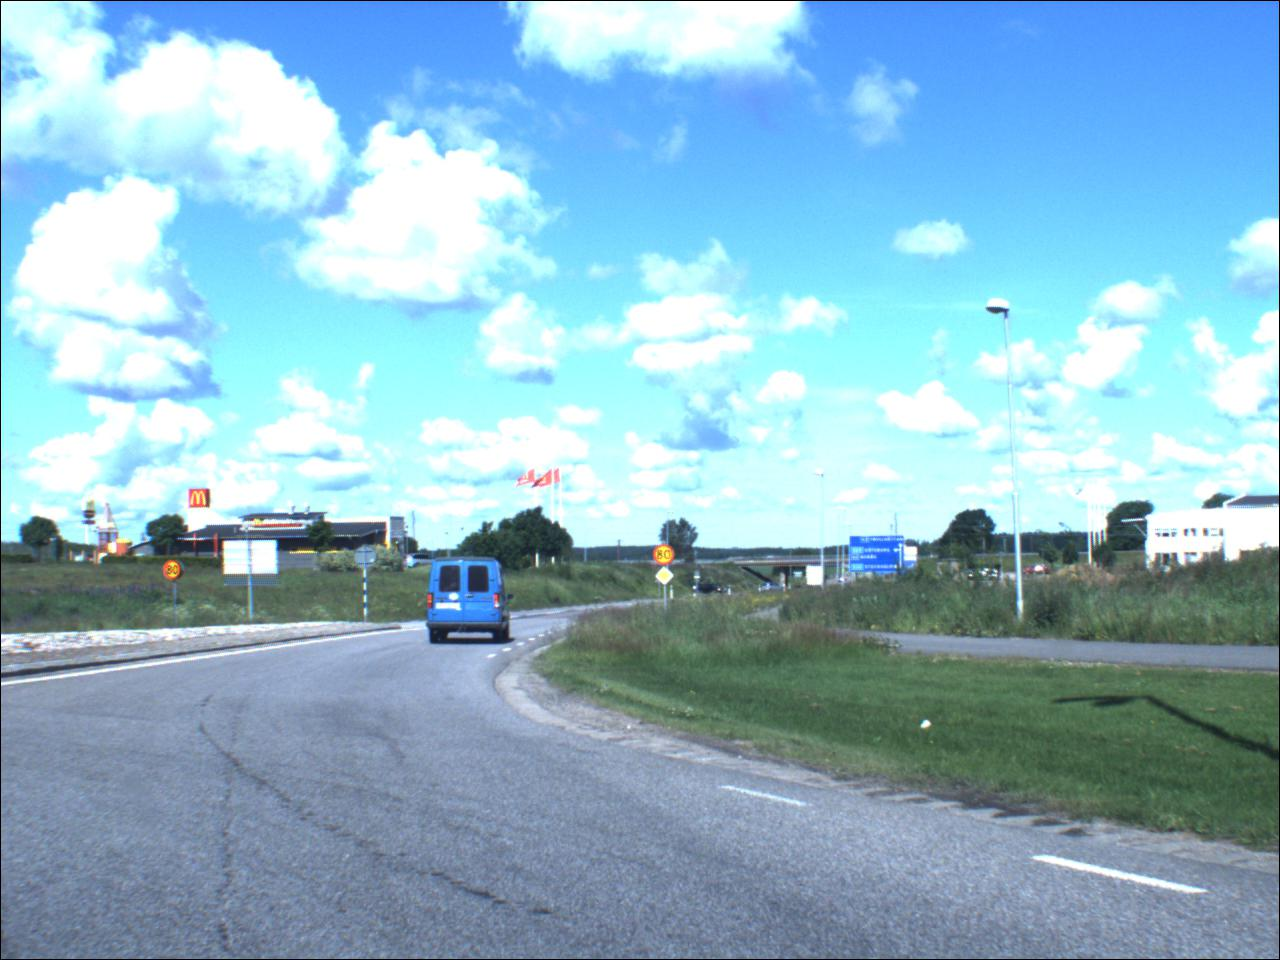80_SIGN: (655, 547, 678, 569), (165, 561, 185, 584)
PRIORITY_ROAD: (657, 569, 677, 588)
